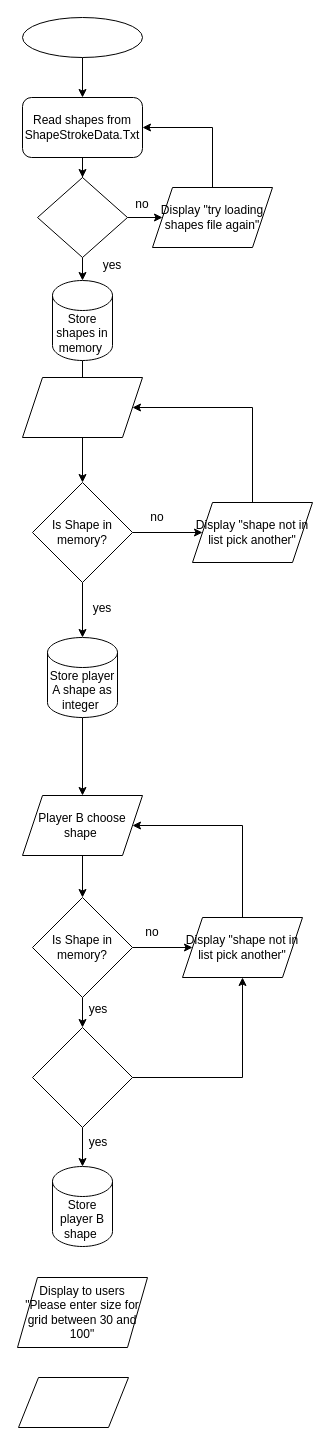
Some shapes in this 330 by 1445 pixel diagram are drawn without their labels. Here are the shapes that lost their labels. From the top down, the box of each, then its label:
(22, 16, 142, 58): Begin
(36, 176, 128, 258): Does shapes file open?
(22, 376, 142, 438): Player A choose shape
(32, 1026, 132, 1128): Is this shape free?
(18, 1376, 128, 1428): grid size
